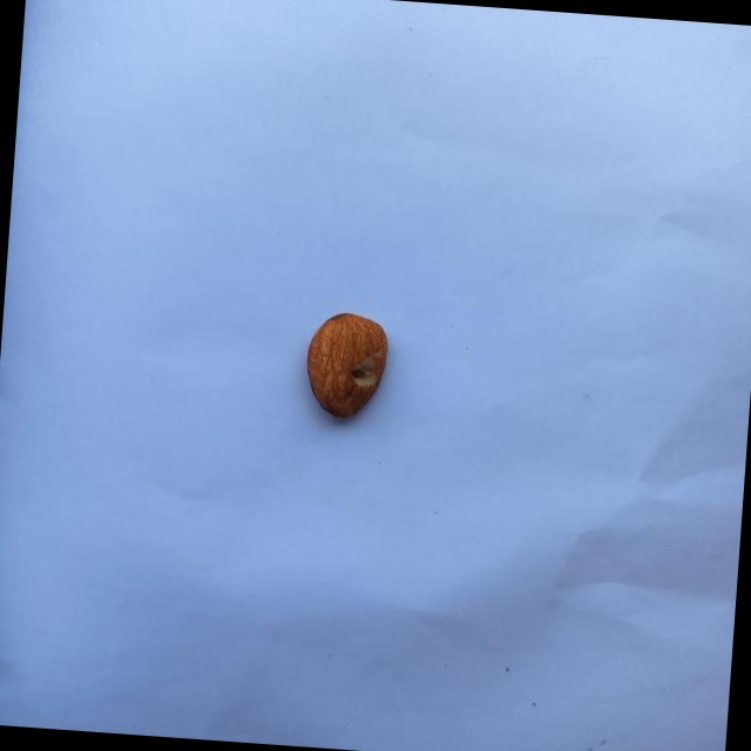grade3: (301, 306, 396, 427)
